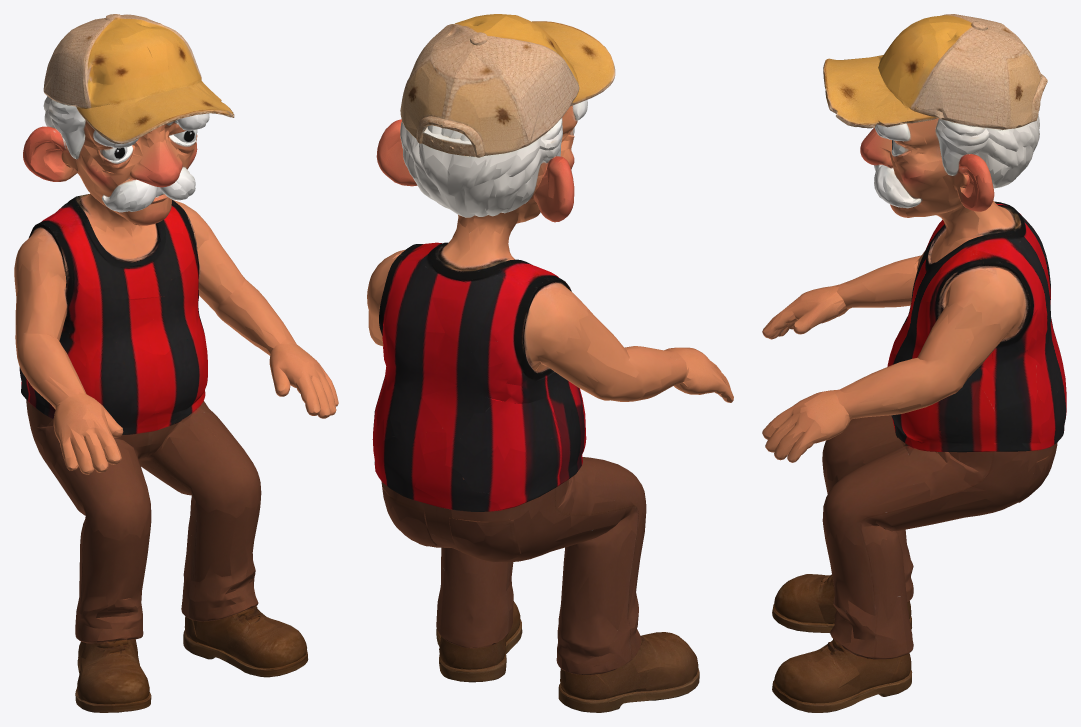
The picture shows the model from 3 angles, left to right: view 1: azimuth 30°, elevation 25°; view 2: azimuth 150°, elevation 25°; view 3: azimuth 270°, elevation 25°; orthographic projection. The views are drawn at different scales.
Parts seen in each view (by area): view 1: output_unwrapped; view 2: output_unwrapped; view 3: output_unwrapped.
Boxes of the visible parts, left/top/right/bottom form: output_unwrapped: left=14, top=14, right=338, bottom=712; output_unwrapped: left=367, top=14, right=733, bottom=712; output_unwrapped: left=762, top=14, right=1066, bottom=712.
Bounding box in the file's own units: 0.8826 × 1.9 × 0.8235.
1 material, 1 textured.
